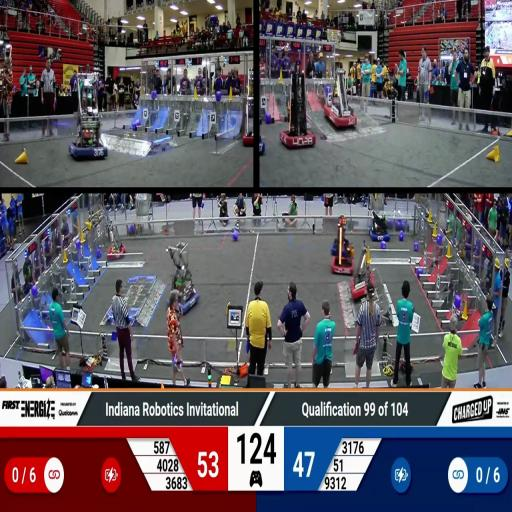robot: (66, 71, 110, 164), (165, 241, 200, 317), (282, 72, 313, 152), (323, 63, 356, 134), (88, 203, 127, 261), (330, 215, 355, 275), (367, 205, 391, 245), (243, 67, 254, 149), (348, 264, 371, 301)
